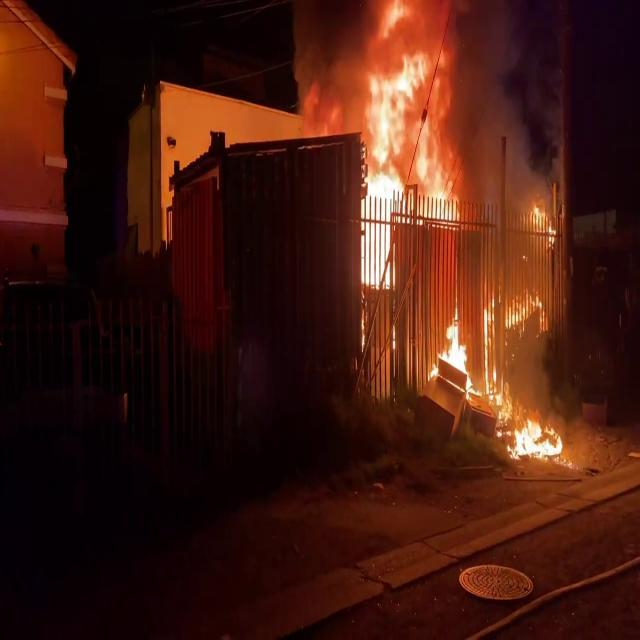Fire: (353, 2, 453, 290), (434, 301, 476, 395), (508, 406, 566, 462)
Smoke: (438, 0, 566, 298)
